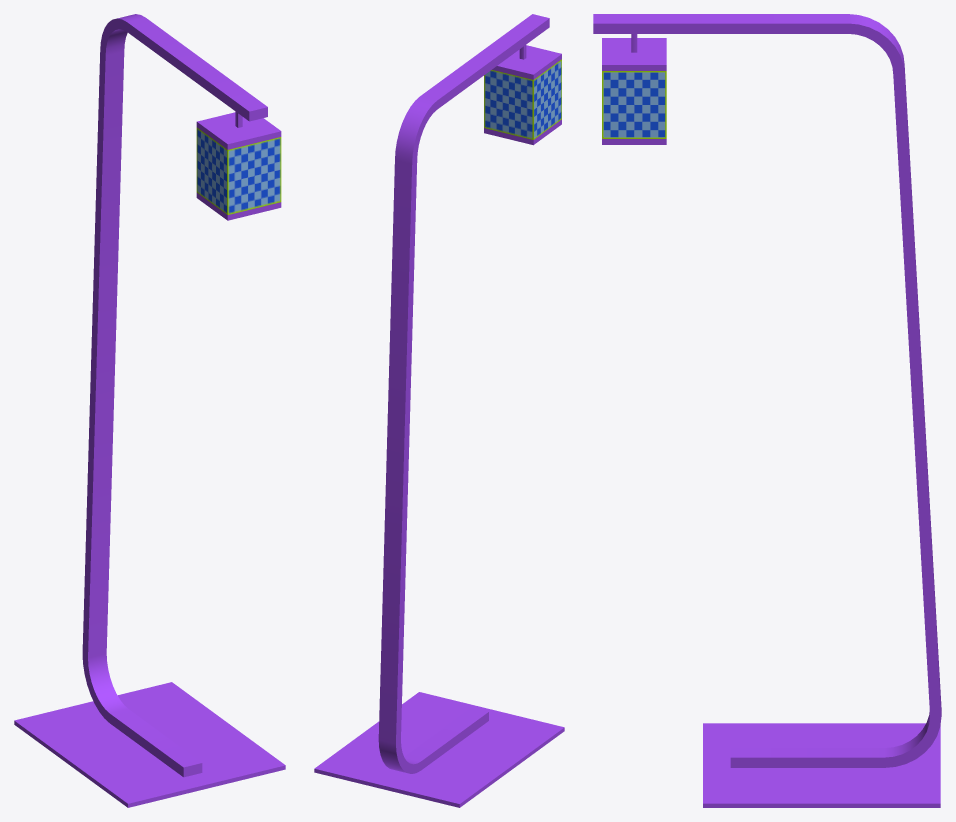
The model's file is LightFloor07_3.FBX.
The picture shows the model from 3 angles, left to right: view 1: azimuth 30°, elevation 25°; view 2: azimuth 150°, elevation 25°; view 3: azimuth 270°, elevation 25°; orthographic projection. The views are drawn at different scales.
Parts seen in each view (by area): view 1: LightFloor07_3; view 2: LightFloor07_3; view 3: LightFloor07_3.
Part boxes in pixels (x1=…): LightFloor07_3: x1=14, y1=14, x2=285, y2=807; LightFloor07_3: x1=314, y1=14, x2=564, y2=807; LightFloor07_3: x1=593, y1=14, x2=941, y2=807.
Bounding box in the file's own units: 40 × 174 × 73.28.
